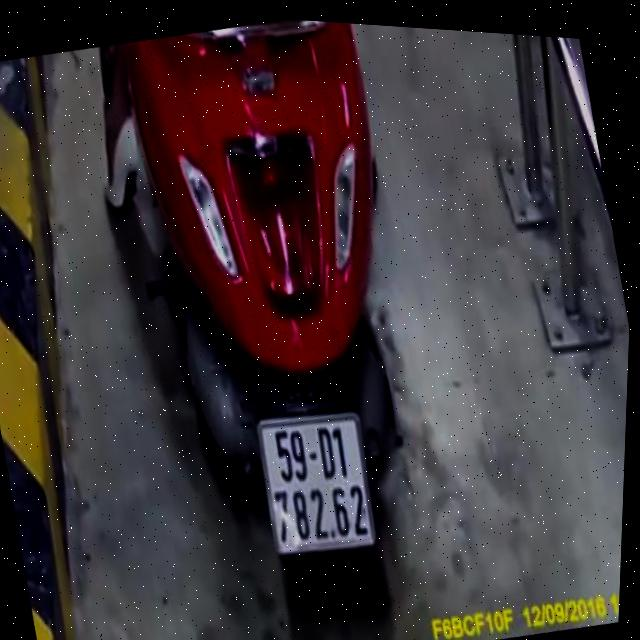motorcycle: (66, 6, 480, 640)
plate: (239, 392, 394, 578)
